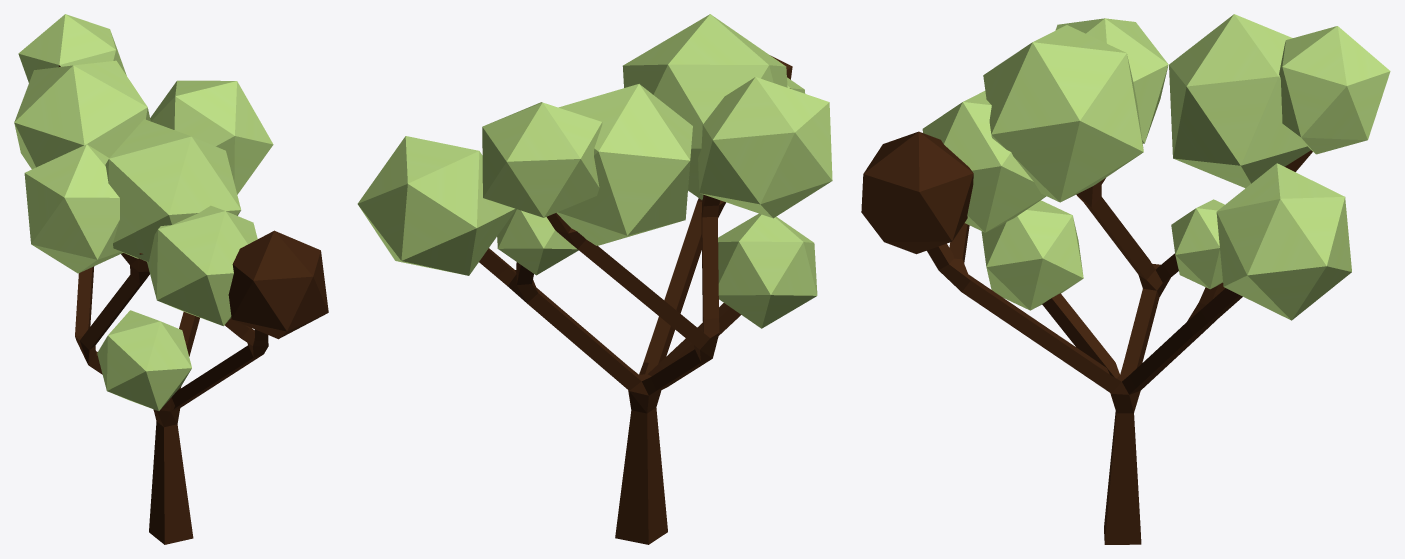
File: tree.fbx
3 views of the same model, side by side, from view 1: azimuth 30°, elevation 25°; view 2: azimuth 150°, elevation 25°; view 3: azimuth 270°, elevation 25° (orthographic). The views are drawn at different scales.
Parts seen in each view (by area): view 1: Icosphere.007; view 2: Icosphere.007; view 3: Icosphere.007.
Boxes of the visible parts, x1=… form: Icosphere.007: x1=14, y1=14, x2=328, y2=544; Icosphere.007: x1=357, y1=14, x2=832, y2=544; Icosphere.007: x1=861, y1=14, x2=1390, y2=544.
Bounding box in the file's own units: 565 × 785 × 744.
